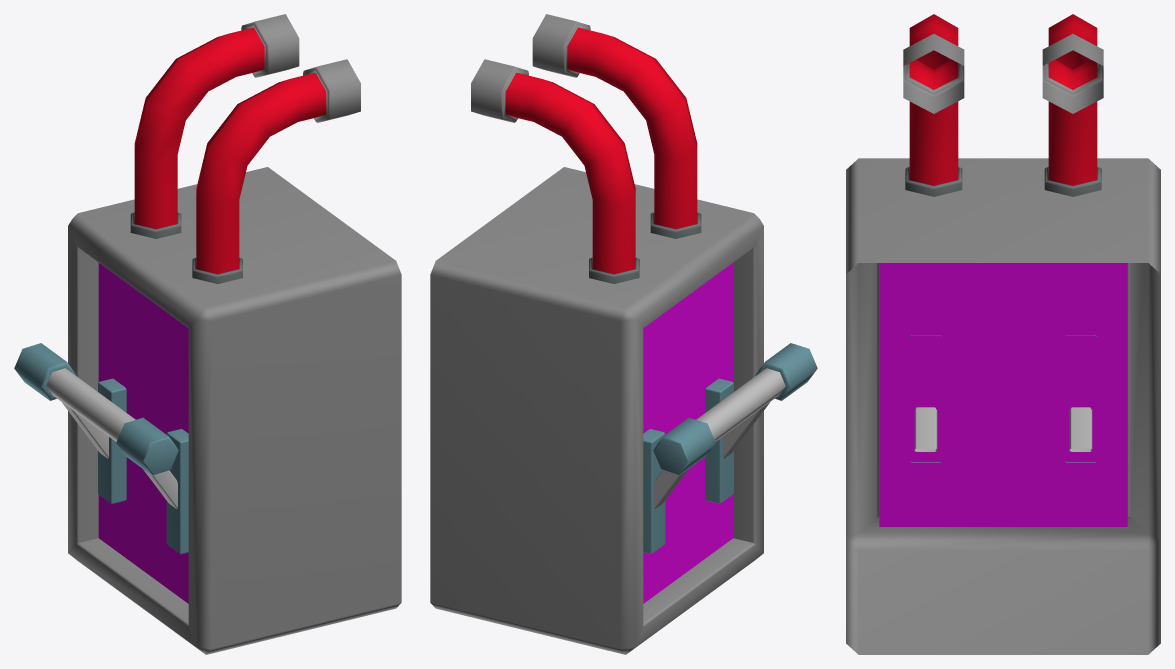
File: Camera_Breaker@close.fbx
3 views of the same model, side by side, from view 1: azimuth 30°, elevation 25°; view 2: azimuth 150°, elevation 25°; view 3: azimuth 270°, elevation 25° (orthographic). The views are drawn at different scales.
Visible parts, largest first — view 1: Base, Breaker; view 2: Base, Breaker; view 3: Base, Breaker.
Boxes of the visible parts, x1,y1,x2,y2 form: Base: (68,14,401,654); Breaker: (14,343,178,508); Base: (430,14,763,654); Breaker: (653,343,817,508); Base: (846,14,1160,654); Breaker: (914,407,1092,451).
Bounding box in the file's own units: 0.8062 × 1.6 × 0.7667.
